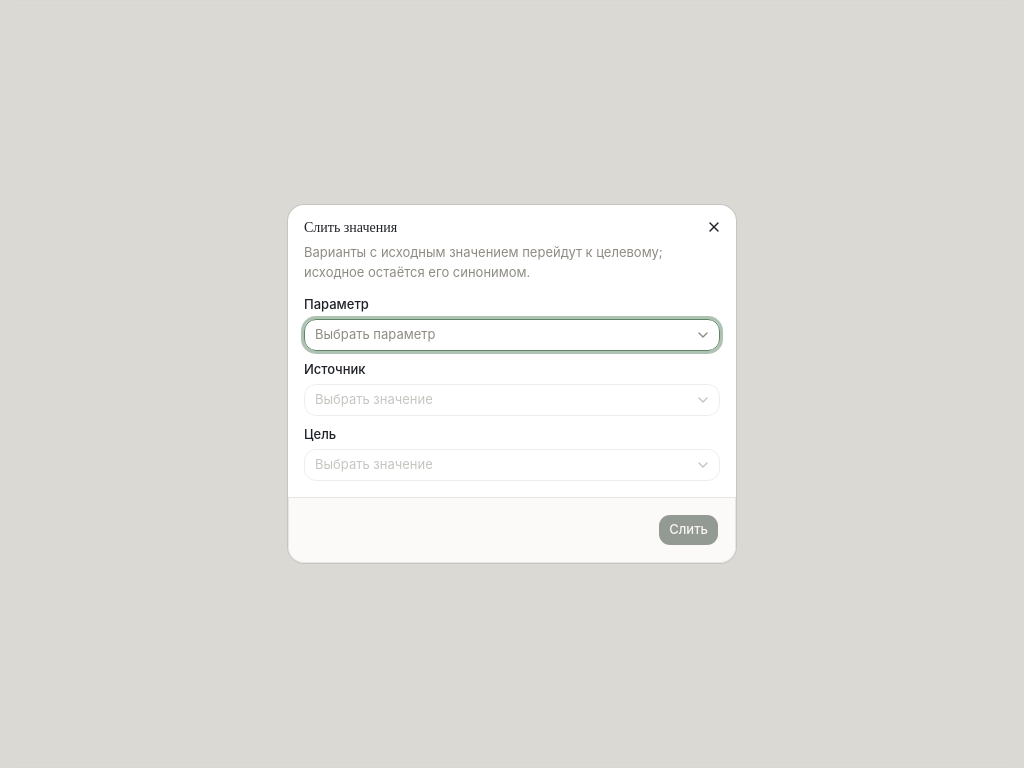
Scenario: MergeValuesDialog: выбор › источник и цель предлагают значения только выбранного параметра
Click the dropdown labelled "параметр".
click(375, 334)  # box 304,319 -> 720,351
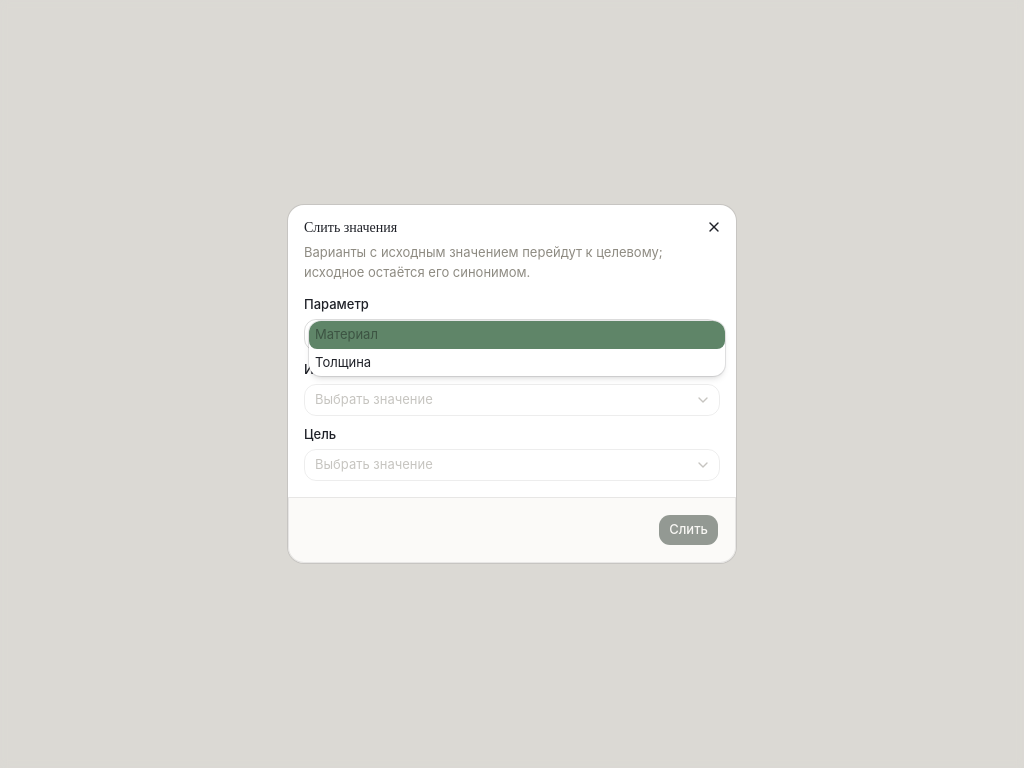
Click the option "Толщина".
click(343, 362)  # box 315,354 -> 371,370
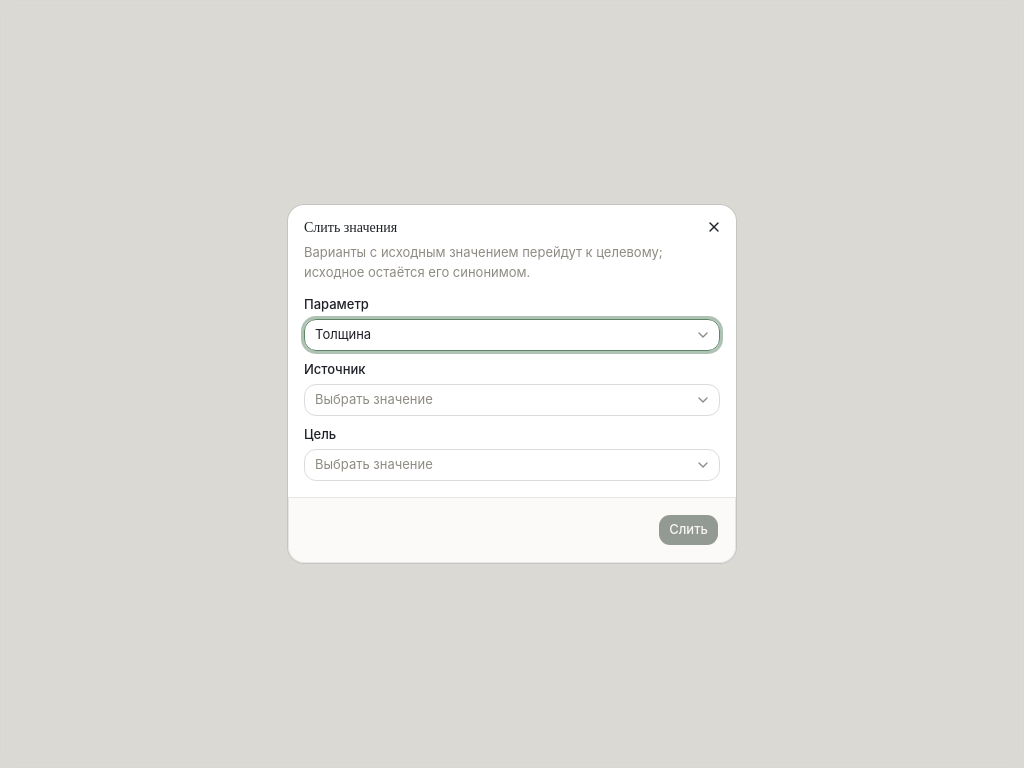
Click the dropdown named "Источник".
click(374, 399)  # box 304,384 -> 720,416
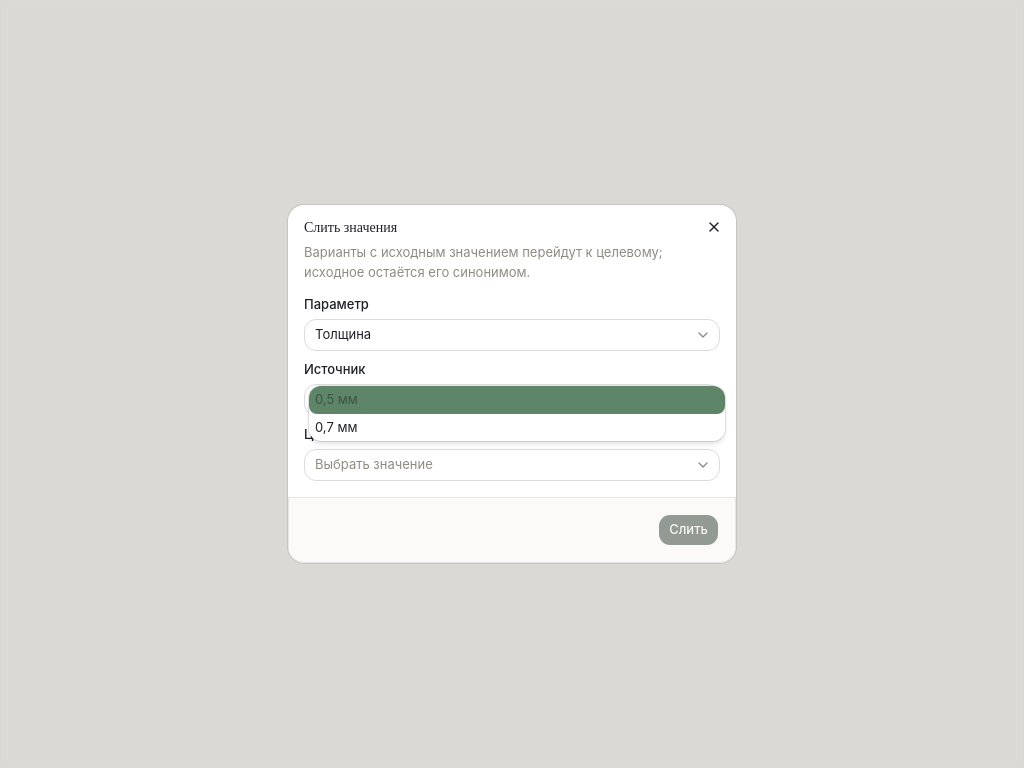
Now the option "0,5 мм" is shown, box 309,386 -> 725,414
Now the option "0,7 мм" is shown, box 315,419 -> 358,435
